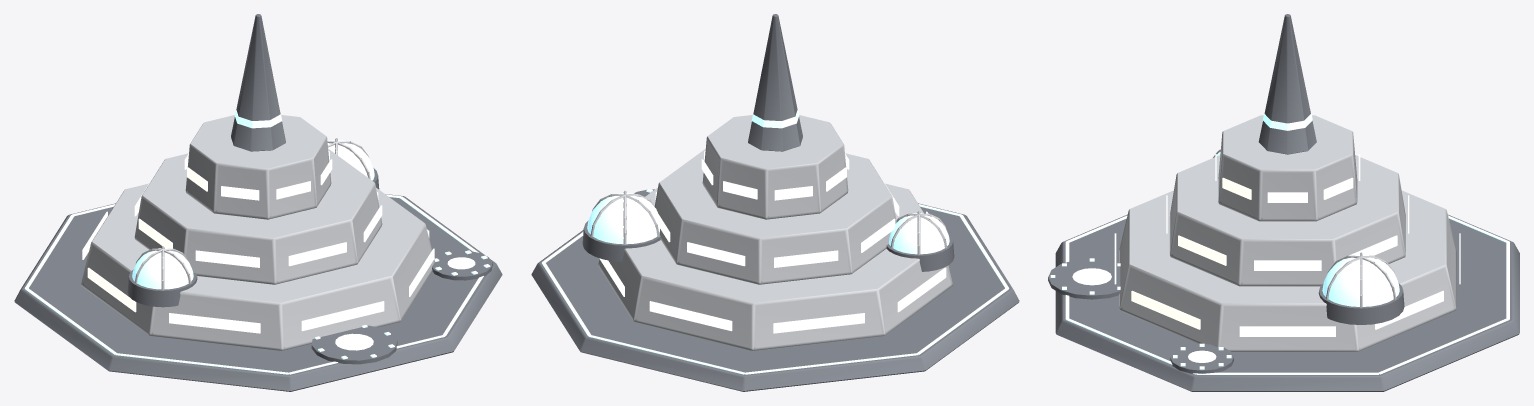
File: city_c.glb
The picture shows the model from 3 angles, left to right: view 1: azimuth 30°, elevation 25°; view 2: azimuth 150°, elevation 25°; view 3: azimuth 270°, elevation 25°; orthographic projection.
Visible parts, largest first — view 1: CityC; view 2: CityC; view 3: CityC.
Part boxes in pixels (x1,y1,x2,y2): CityC: (14,14,502,391); CityC: (531,14,1019,391); CityC: (1048,14,1519,391).
Size of the model in its own units: 37.96 by 25.2 by 38.58.
